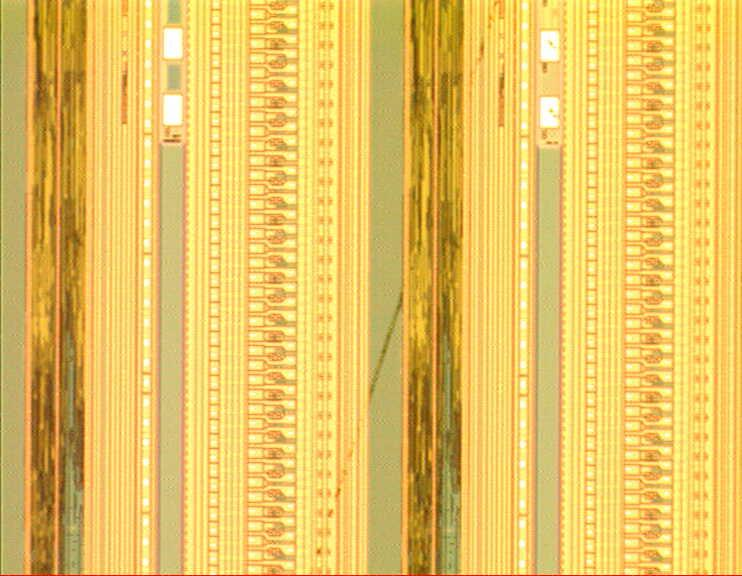SCRATCH: (300, 287, 411, 565)
